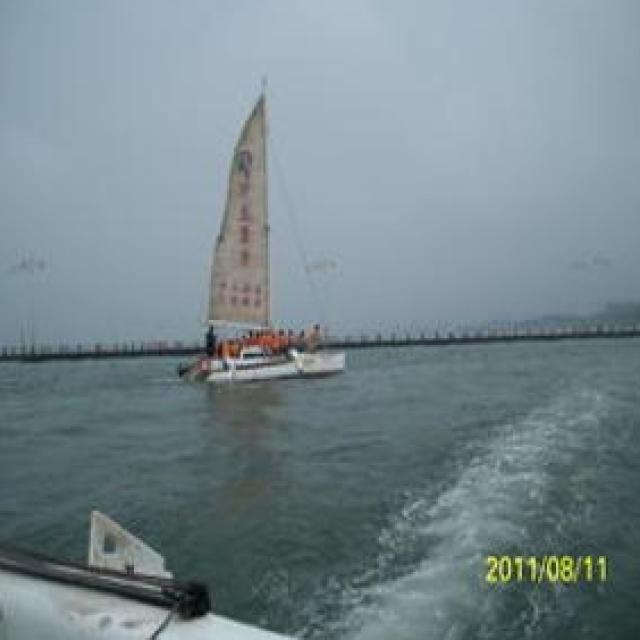sailboat: (174, 84, 349, 380)
